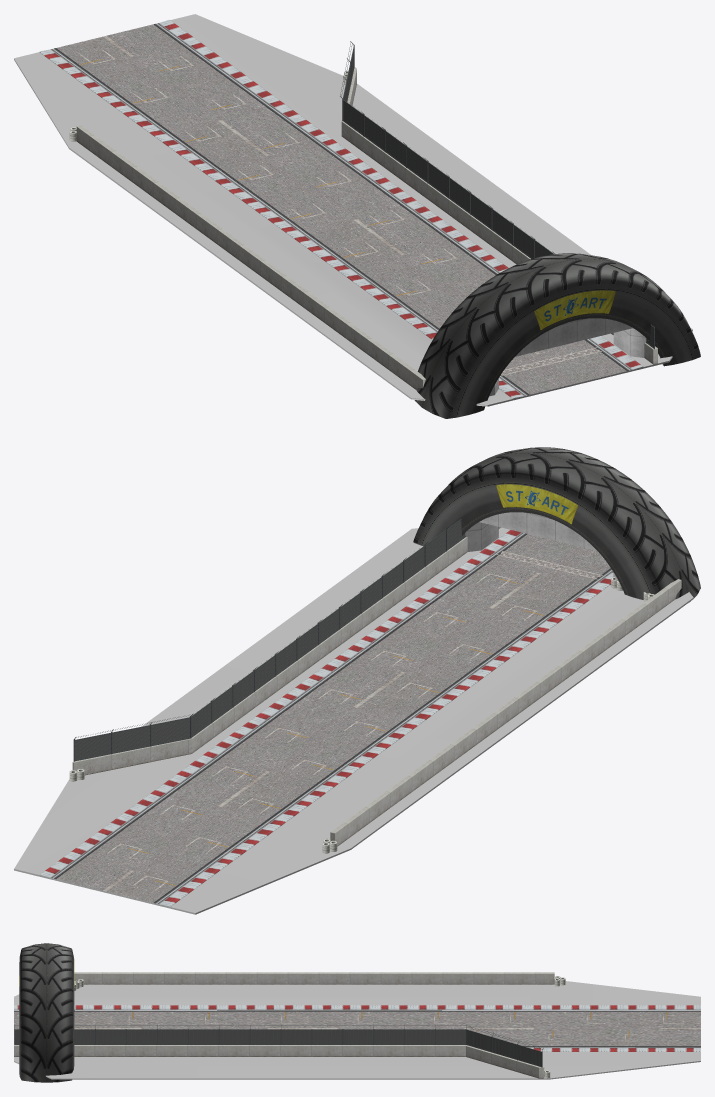
The model's file is start.fbx.
The picture shows the model from 3 angles, top to bottom: view 1: azimuth 30°, elevation 25°; view 2: azimuth 150°, elevation 25°; view 3: azimuth 270°, elevation 25°; orthographic projection. The views are drawn at different scales.
Visible parts, largest first — view 1: Start, Start_Road, prop, Start_Road_footpath, Start_Side_Path, Start_Fence, stt_prop_race_start_line_03_Shape, Start_Position, stt_prop_race_start_line_03_Tyreadd, Fence_Piller; view 2: Start_Road, Start, prop, Start_Road_footpath, Start_Side_Path, Start_Fence, stt_prop_race_start_line_03_Shape, Start_Position, Fence_Piller, stt_prop_race_start_line_03_Tyreadd; view 3: Start, Start_Road, Start_Side_Path, prop, Start_Fence, Start_Road_footpath, Fence_Piller, Start_Position, Start_Tyre.
Boxes of the visible parts, <box> form: Start: <box>14,14,692,406</box>; Start_Road: <box>56,24,626,394</box>; prop: <box>414,253,700,418</box>; Start_Road_footpath: <box>39,20,643,398</box>; Start_Side_Path: <box>76,67,657,389</box>; Start_Fence: <box>343,49,653,346</box>; stt_prop_race_start_line_03_Shape: <box>489,318,663,396</box>; Start_Position: <box>80,49,601,375</box>; stt_prop_race_start_line_03_Tyreadd: <box>534,290,615,330</box>; Fence_Piller: <box>340,41,654,349</box>; Start_Road: <box>56,534,610,902</box>; Start: <box>14,527,693,914</box>; prop: <box>413,447,700,602</box>; Start_Road_footpath: <box>39,530,613,906</box>; Start_Side_Path: <box>72,527,681,846</box>; Start_Fence: <box>75,520,465,760</box>; stt_prop_race_start_line_03_Shape: <box>465,512,618,581</box>; Start_Position: <box>108,551,602,890</box>; Fence_Piller: <box>73,519,465,761</box>; stt_prop_race_start_line_03_Tyreadd: <box>496,484,577,524</box>; Start: <box>14,981,700,1079</box>; Start_Road: <box>14,1011,700,1045</box>; Start_Side_Path: <box>14,972,554,1078</box>; prop: <box>19,943,74,1082</box>; Start_Fence: <box>15,1030,541,1066</box>; Start_Road_footpath: <box>14,1005,700,1051</box>; Fence_Piller: <box>14,1025,543,1067</box>; Start_Position: <box>128,1012,681,1041</box>; Start_Tyre: <box>74,976,565,1078</box>.
Bounding box in the file's own units: 7276 × 2770 × 21204.
